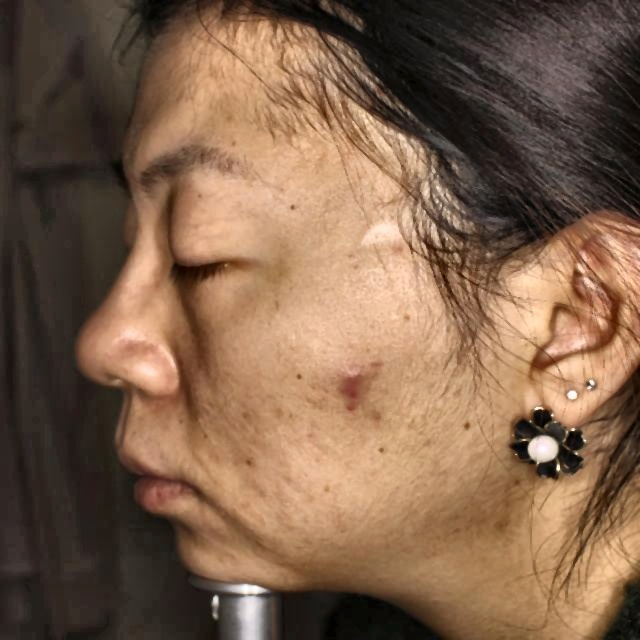comedone: (330, 364, 369, 406)
